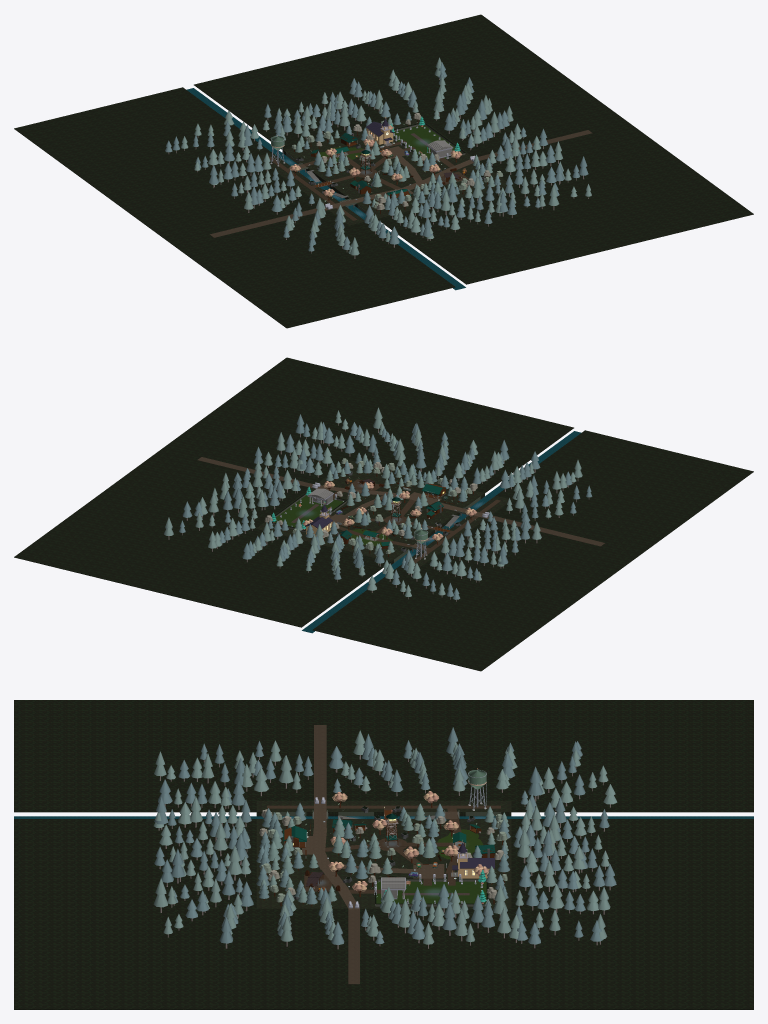
File: maple_hollow.glb
3 renders of one model, top to bottom at view 1: azimuth 30°, elevation 25°; view 2: azimuth 150°, elevation 25°; view 3: azimuth 270°, elevation 25°, orthographic. The views are drawn at different scales.
Visible parts, largest first — view 1: Mat_033_forest_floor, Mat_016_vcol_lit, Mat_034_forest_floor, Mat_057_water, Mat_026_dirt_trail, Mat_029_dirt_trail, Mat_027_dirt_trail, Mat_035_grass; view 2: Mat_033_forest_floor, Mat_016_vcol_lit, Mat_034_forest_floor, Mat_057_water, Mat_026_dirt_trail, Mat_029_dirt_trail, Mat_027_dirt_trail, Mat_035_grass; view 3: Mat_033_forest_floor, Mat_016_vcol_lit, Mat_034_forest_floor, Mat_026_dirt_trail, Mat_029_dirt_trail, Mat_027_dirt_trail, Mat_035_grass, Mat_057_water, Mat_043_sidewalk.
Boxes of the visible parts, x1,y1,x2,y2 form: Mat_033_forest_floor: (14, 14, 753, 328); Mat_016_vcol_lit: (165, 57, 591, 258); Mat_034_forest_floor: (256, 118, 506, 225); Mat_057_water: (186, 88, 465, 290); Mat_026_dirt_trail: (269, 140, 468, 220); Mat_029_dirt_trail: (299, 146, 480, 210); Mat_027_dirt_trail: (210, 130, 592, 237); Mat_035_grass: (394, 125, 461, 159); Mat_033_forest_floor: (14, 357, 753, 671); Mat_016_vcol_lit: (164, 407, 592, 601); Mat_034_forest_floor: (256, 460, 511, 567); Mat_057_water: (302, 431, 581, 633); Mat_026_dirt_trail: (329, 479, 500, 563); Mat_029_dirt_trail: (311, 485, 488, 549); Mat_027_dirt_trail: (197, 457, 604, 546); Mat_035_grass: (274, 495, 342, 529); Mat_033_forest_floor: (14, 700, 753, 1009); Mat_016_vcol_lit: (153, 727, 617, 949); Mat_034_forest_floor: (256, 801, 511, 908); Mat_026_dirt_trail: (267, 805, 500, 893); Mat_029_dirt_trail: (302, 799, 457, 909); Mat_027_dirt_trail: (314, 725, 359, 984); Mat_035_grass: (376, 881, 486, 903); Mat_057_water: (14, 816, 753, 818); Mat_043_sidewalk: (272, 810, 501, 818).
Size of the model in its own units: 368 by 24.68 by 372.
Materials: 77 (60 with a texture image).
